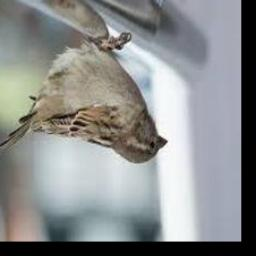Sparrow: (0, 33, 168, 163)
